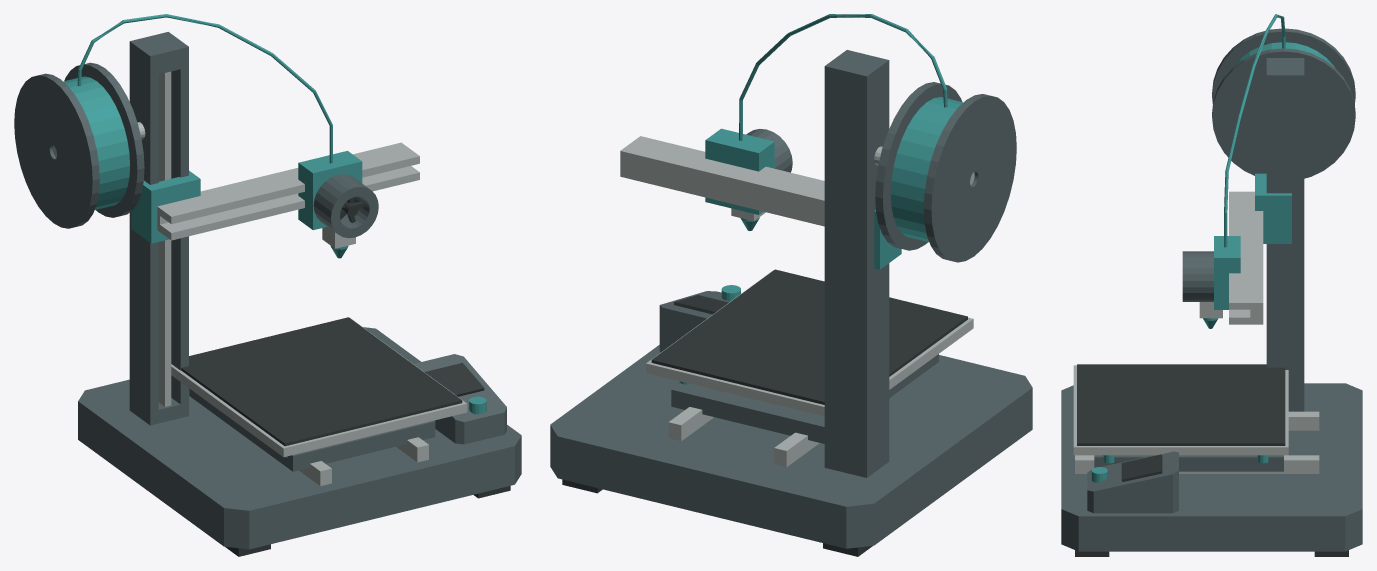
3 views of the same model, side by side, from view 1: azimuth 30°, elevation 25°; view 2: azimuth 150°, elevation 25°; view 3: azimuth 270°, elevation 25° (orthographic). The views are drawn at different scales.
Visible parts, largest first — view 1: WholeLowPrinterBase, WholeBlankBuildSurface, WholeOpenGuideColumn, WholeBoredDoubleFlangeSpool, WholeSlottedCantileverRail, WholeWoundMaterialBand, WholeVerticalGuideRail, WholeBuildPlate, WholeBedCarriage, WholeAngledControlHousing, WholeOpenFrontFanHood, WholeFixedVerticalCarriage (+3 smaller); view 2: WholeLowPrinterBase, WholeOpenGuideColumn, WholeBlankBuildSurface, WholeBoredDoubleFlangeSpool, WholeSlottedCantileverRail, WholeWoundMaterialBand, WholeBedCarriage, WholeBuildPlate, WholeHeadCarriageBack, WholeAngledControlHousing, WholeFixedFeedLine, WholeBedYRail1 (+4 smaller); view 3: WholeLowPrinterBase, WholeBlankBuildSurface, WholeBoredDoubleFlangeSpool, WholeOpenGuideColumn, WholeSlottedCantileverRail, WholeAngledControlHousing, WholeBuildPlate, WholeBedCarriage, WholeFixedVerticalCarriage, WholeOpenFrontFanHood, WholeHeadCarriageBack, WholeBedYRail1 (+4 smaller).
Boxes of the visible parts, left/top/right/bottom form: WholeLowPrinterBase: left=78, top=327, right=521, bottom=549; WholeBlankBuildSurface: left=181, top=317, right=462, bottom=446; WholeOpenGuideColumn: left=129, top=32, right=188, bottom=425; WholeBoredDoubleFlangeSpool: left=14, top=62, right=144, bottom=228; WholeSlottedCantileverRail: left=157, top=142, right=419, bottom=240; WholeWoundMaterialBand: left=63, top=76, right=129, bottom=209; WholeVerticalGuideRail: left=158, top=71, right=171, bottom=406; WholeBuildPlate: left=171, top=318, right=467, bottom=457; WholeBedCarriage: left=189, top=388, right=435, bottom=471; WholeAngledControlHousing: left=414, top=354, right=506, bottom=444; WholeOpenFrontFanHood: left=313, top=174, right=378, bottom=238; WholeFixedVerticalCarriage: left=131, top=170, right=200, bottom=243; WholeLowPrinterBase: left=550, top=345, right=1032, bottom=548; WholeOpenGuideColumn: left=824, top=50, right=889, bottom=477; WholeBlankBuildSurface: left=651, top=269, right=967, bottom=404; WholeBoredDoubleFlangeSpool: left=875, top=82, right=1016, bottom=262; WholeSlottedCantileverRail: left=620, top=136, right=824, bottom=226; WholeWoundMaterialBand: left=890, top=97, right=963, bottom=242; WholeBedCarriage: left=671, top=354, right=938, bottom=443; WholeBuildPlate: left=646, top=270, right=973, bottom=416; WholeHeadCarriageBack: left=705, top=128, right=774, bottom=214; WholeAngledControlHousing: left=659, top=291, right=730, bottom=352; WholeFixedFeedLine: left=739, top=14, right=947, bottom=140; WholeBedYRail1: left=668, top=407, right=713, bottom=441; WholeLowPrinterBase: left=1061, top=383, right=1362, bottom=551; WholeBlankBuildSurface: left=1077, top=364, right=1285, bottom=445; WholeBoredDoubleFlangeSpool: left=1212, top=28, right=1355, bottom=178; WholeOpenGuideColumn: left=1266, top=58, right=1304, bottom=411; WholeSlottedCantileverRail: left=1229, top=191, right=1263, bottom=324; WholeAngledControlHousing: left=1087, top=451, right=1178, bottom=513; WholeBuildPlate: left=1073, top=365, right=1288, bottom=455; WholeBedCarriage: left=1094, top=455, right=1283, bottom=471; WholeFixedVerticalCarriage: left=1255, top=173, right=1291, bottom=243; WholeOpenFrontFanHood: left=1182, top=251, right=1213, bottom=301; WholeHeadCarriageBack: left=1214, top=236, right=1240, bottom=309; WholeBedYRail1: left=1075, top=455, right=1319, bottom=473.
Bounding box in the file's own units: 0.55 × 0.6765 × 0.44.
